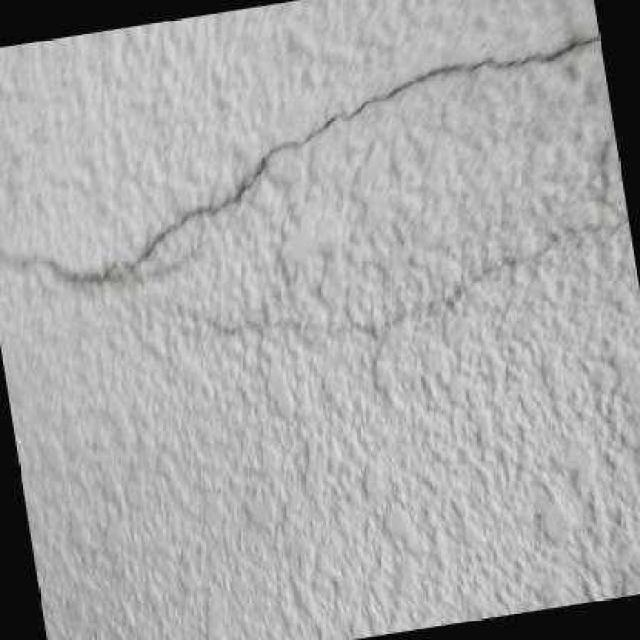D00: (54, 25, 601, 289)
